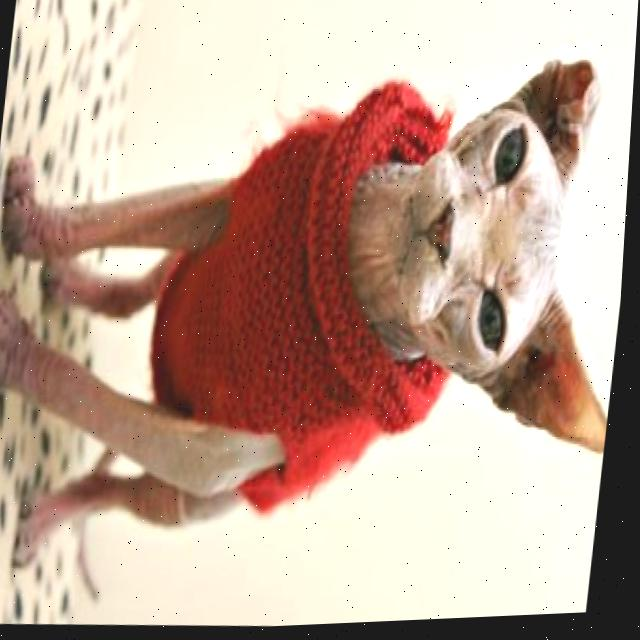Sphynx: (0, 26, 638, 637)
